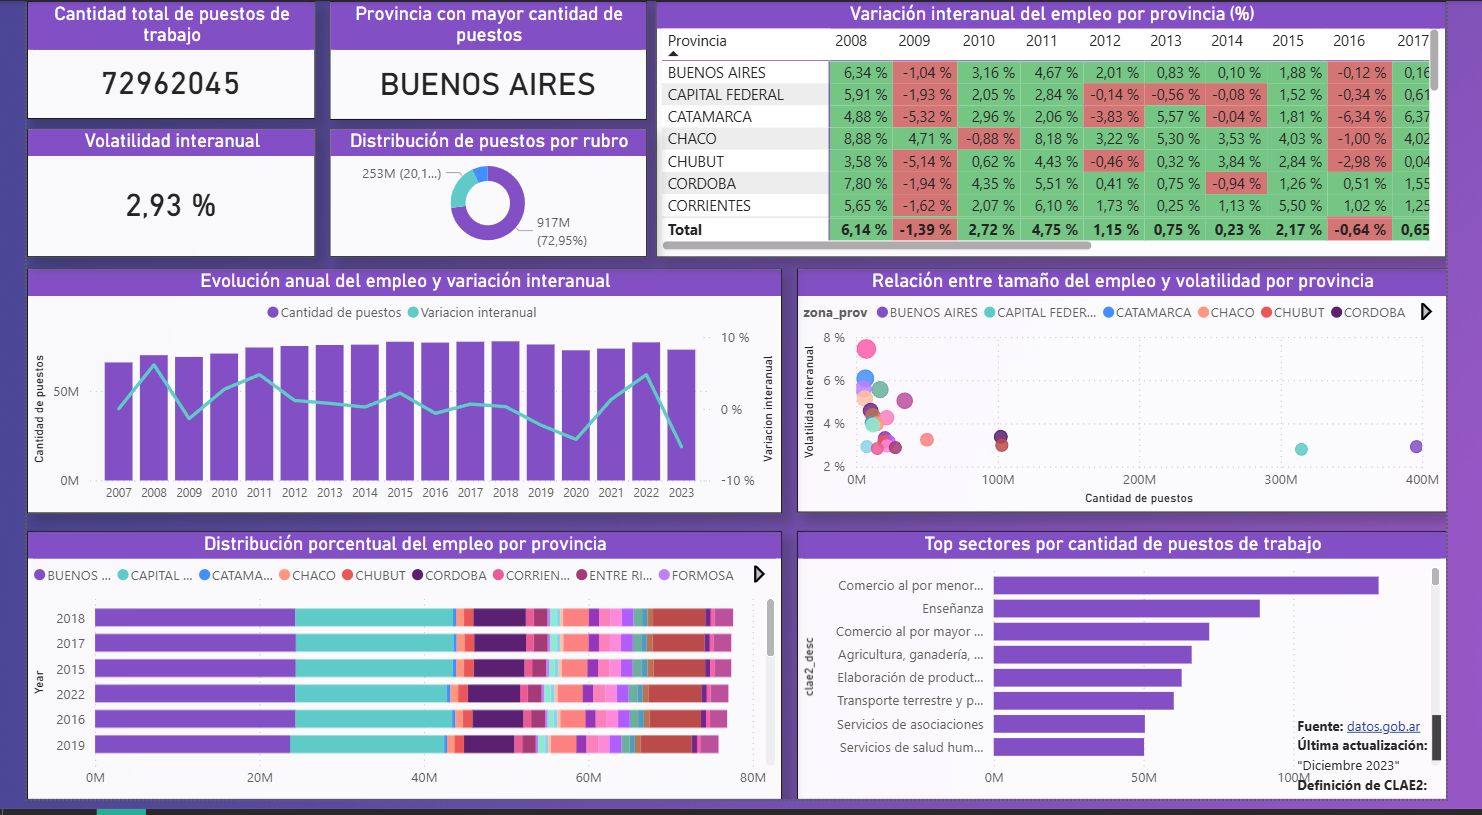

The dashboard page shown, as its layout file describes it:
{"tool":"powerbi","page":{"name":"Page 1","canvas":[1280,720],"ordinal":0},"visuals":[{"type":"barChart","title":"Cantidad de puestos por sector (CLAE2)","fields":{"Y":["Sum(puestos_priv.puestos)"],"Category":["clae_agg.clae2_desc"]},"box":[693.9,478.2,586.1,242.1],"z":0},{"type":"barChart","title":"Peso relativo de cada provincia por año","fields":{"Category":["puestos_priv.fecha.Variation.Date Hierarchy.Year"],"Y":["Sum(puestos_priv.puestos)"],"Series":["puestos_priv.zona_prov"]},"box":[0,478.2,680.7,242.1],"z":1000},{"type":"scatterChart","title":"Relación entre tamaño del empleo y volatilidad por provincia","fields":{"Series":["puestos_priv.zona_prov"],"Y":["puestos_priv.Volatilidad"],"Size":["puestos_priv.Volatilidad"],"X":["Sum(puestos_priv.puestos)"]},"box":[694.3,241.2,586.1,219.8],"z":2000},{"type":"lineStackedColumnComboChart","title":"Evolución anual del empleo y variación interanual","fields":{"Category":["puestos_priv.fecha.Variation.Date Hierarchy.Year"],"Y":["Sum(puestos_priv.puestos)"],"Y2":["puestos_priv.Variacion interanual"]},"box":[0,240.9,680.7,220.5],"z":3000},{"type":"card","title":"Cantidad total de puestos de trabajo","fields":{"Values":["Sum(puestos_priv.puestos)"]},"box":[0,0,260.1,106.7],"z":4000},{"type":"card","title":"Provincia con mayor cantidad de puestos","fields":{"Values":["puestos_priv.Mayor provincia"]},"box":[272.8,0,286.3,107.1],"z":5000},{"type":"card","title":"Volatilidad interanual promedio","fields":{"Values":["puestos_priv.Volatilidad"]},"box":[0,115.1,260.1,116.3],"z":6000},{"type":"pivotTable","title":"Variación interanual del empleo por provincia (%)","fields":{"Rows":["puestos_priv.zona_prov"],"Columns":["puestos_priv.año"],"Values":["puestos_priv.Variacion interanual"]},"box":[566.9,0,713.1,231.3],"z":7000},{"type":"donutChart","title":"Distribución de puestos por sector","fields":{"Category":["clae_agg.Sector"],"Y":["Sum(puestos_priv.puestos)"]},"box":[272.8,115,286.3,116.1],"z":8000}]}

Visuals, with their boxes in screenshot pixels (x1, y1, x2, y2), scaled from the page's 1280x720 canvas onto the 1482x815 screenshot:
"Cantidad de puestos por sector (CLAE2)" barChart: left=803, top=541, right=1481, bottom=814
"Peso relativo de cada provincia por año" barChart: left=0, top=541, right=788, bottom=814
"Relación entre tamaño del empleo y volatilidad por provincia" scatterChart: left=804, top=273, right=1481, bottom=522
"Evolución anual del empleo y variación interanual" lineStackedColumnComboChart: left=0, top=273, right=788, bottom=522
"Cantidad total de puestos de trabajo" card: left=0, top=0, right=301, bottom=121
"Provincia con mayor cantidad de puestos" card: left=316, top=0, right=647, bottom=121
"Volatilidad interanual promedio" card: left=0, top=130, right=301, bottom=262
"Variación interanual del empleo por provincia (%)" pivotTable: left=656, top=0, right=1481, bottom=262
"Distribución de puestos por sector" donutChart: left=316, top=130, right=647, bottom=262
